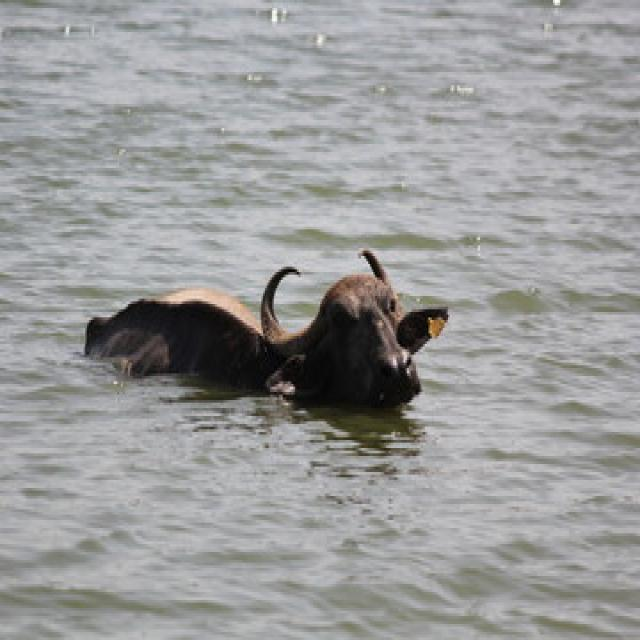Buffalo: (80, 246, 450, 414)
